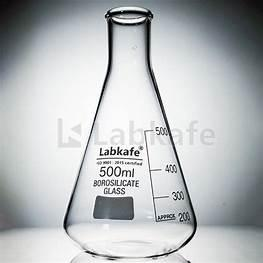Titrarion: (47, 16, 212, 256)
